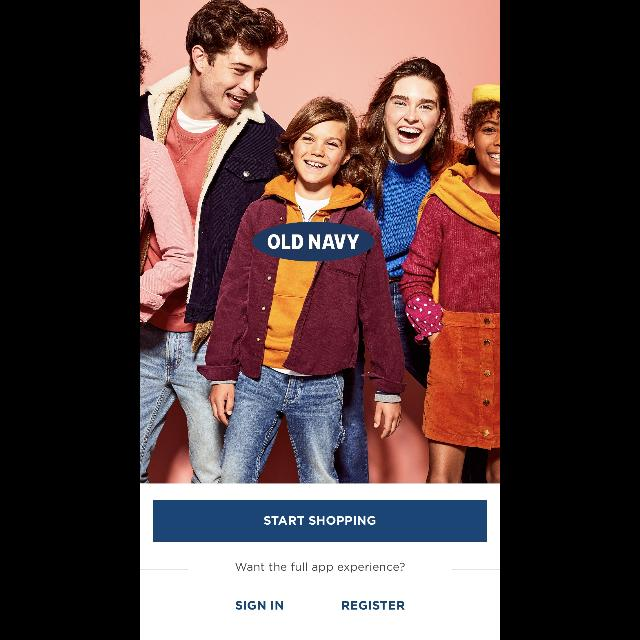image: (140, 1, 500, 483)
text: (236, 563, 404, 573), (342, 600, 404, 610), (235, 600, 283, 610)
textbutton: (154, 500, 486, 542)
